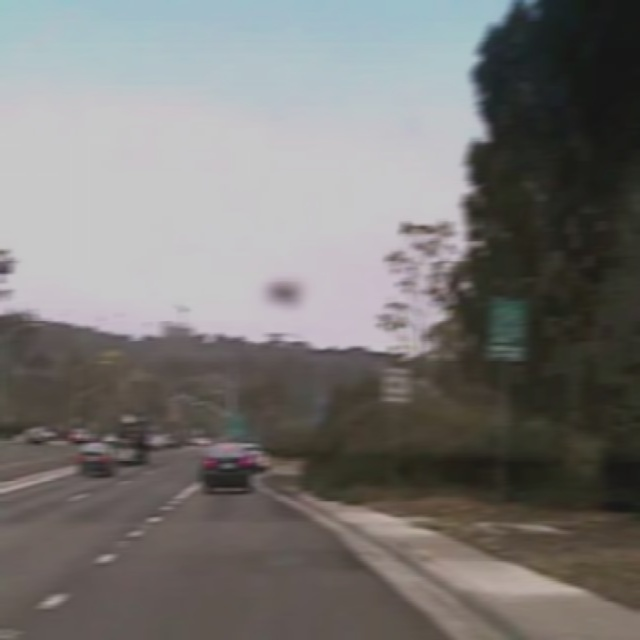rightLaneMustTurn: (382, 366, 411, 406)
